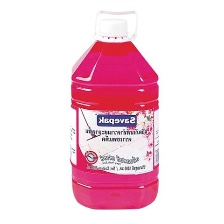cleaning_solution: (68, 6, 162, 213)
